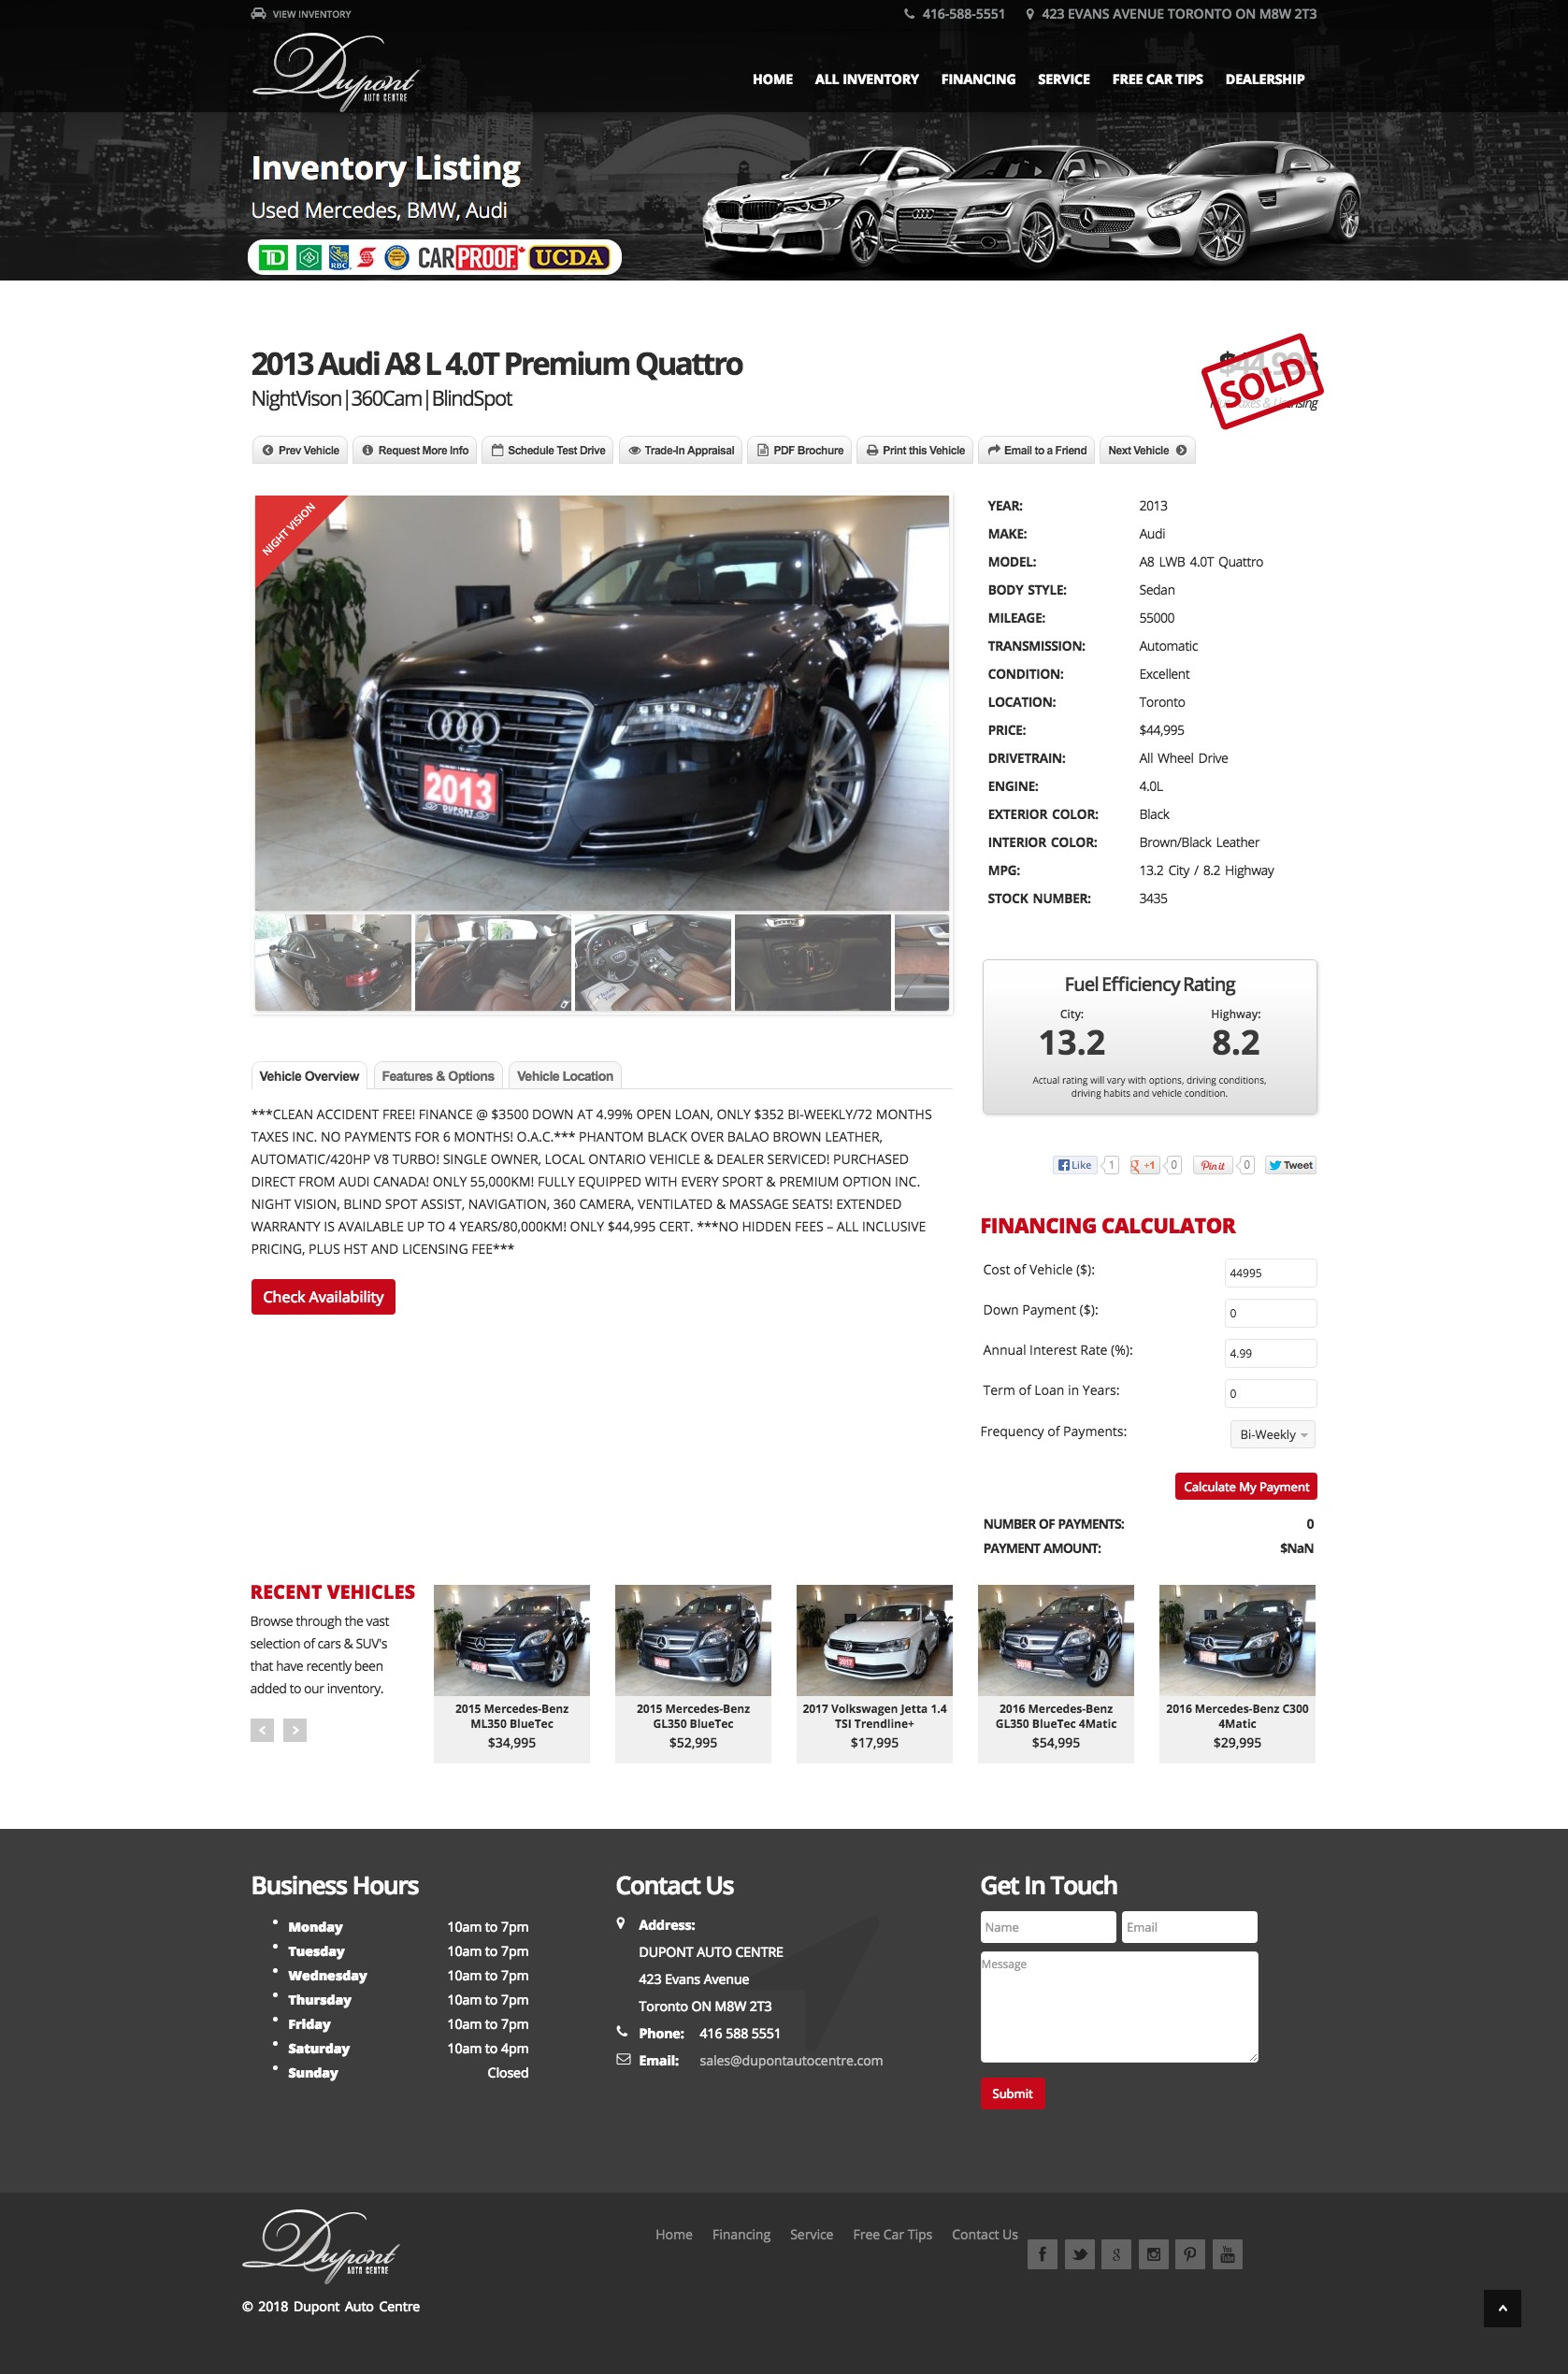car: (940, 913, 950, 1013)
